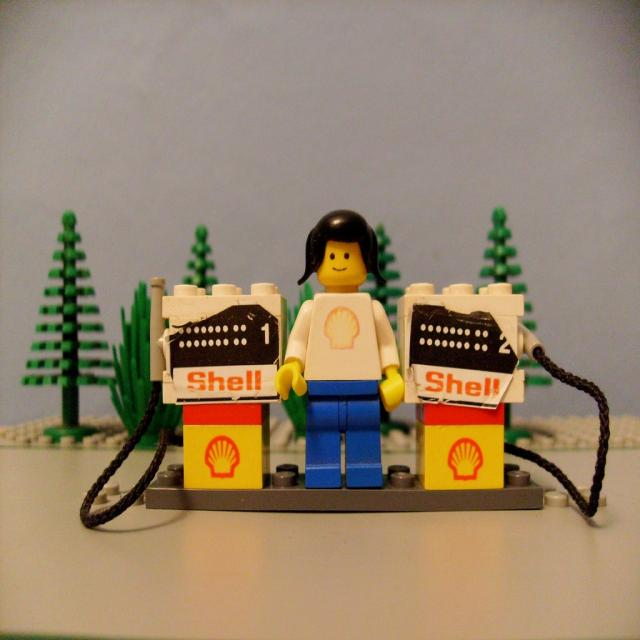shell: (449, 437, 485, 484), (206, 436, 240, 480)
